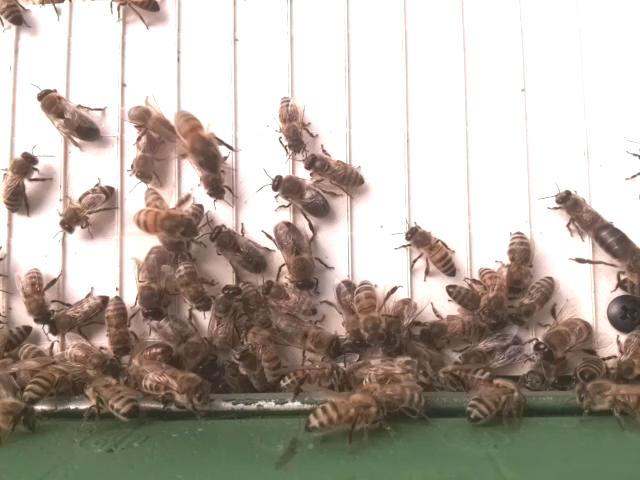Drone: (34, 85, 105, 145), (270, 311, 344, 360), (272, 219, 317, 295), (207, 222, 268, 278), (268, 171, 333, 221), (533, 314, 597, 363), (138, 243, 176, 325)
Worker: (403, 223, 459, 281), (57, 183, 118, 233), (42, 291, 110, 335), (298, 151, 368, 191), (2, 147, 41, 216), (175, 107, 218, 169), (510, 273, 557, 327), (353, 279, 386, 350), (173, 253, 210, 316), (130, 207, 197, 239), (103, 293, 132, 359), (277, 94, 308, 155), (507, 227, 532, 296), (22, 264, 49, 323)
